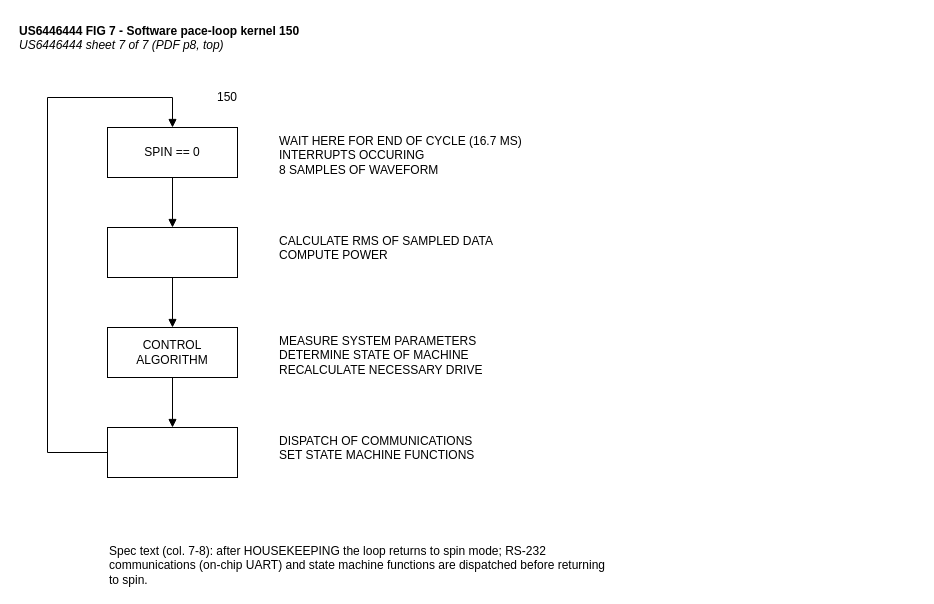
Image size: 934x604. Some labels were removed from this diagram. Each missing label, with the box of its shape:
HOUSEKEEPING: (106, 426, 238, 478)
RMS: (106, 226, 238, 278)
